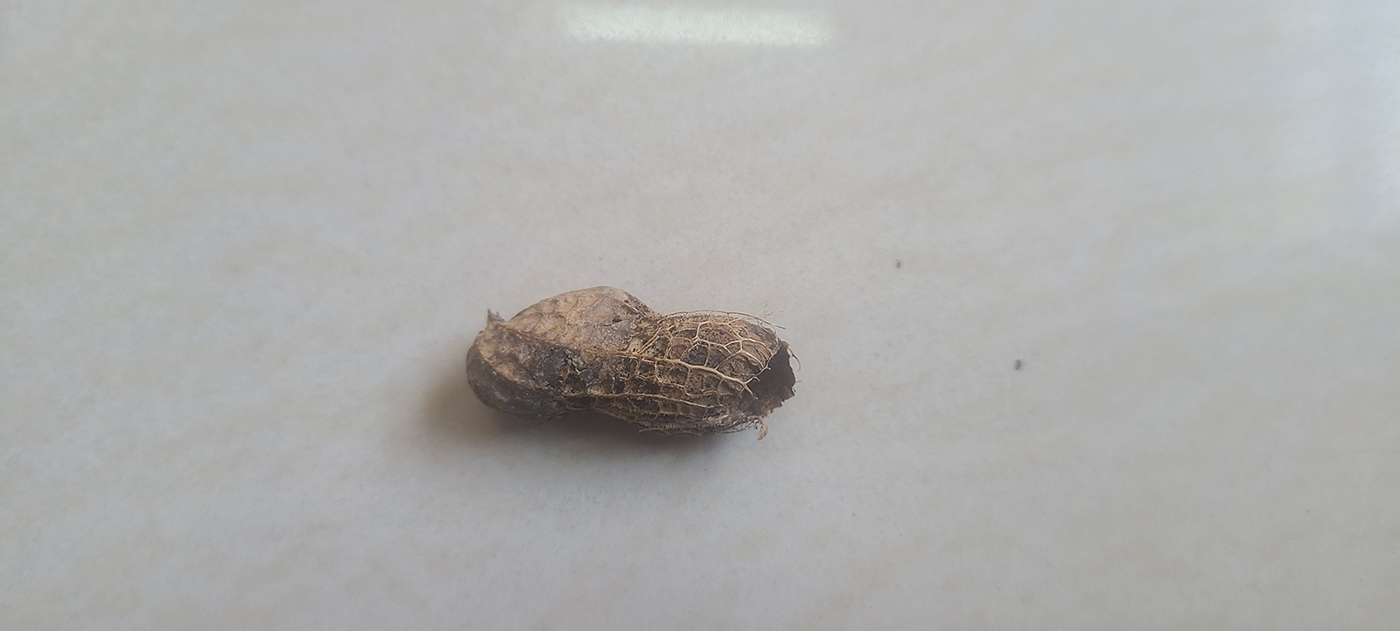l: (466, 285, 799, 436)
